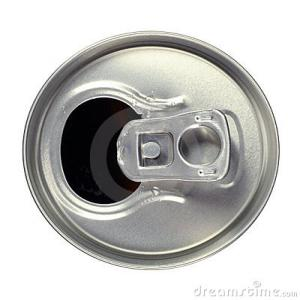Can: (22, 30, 282, 271)
